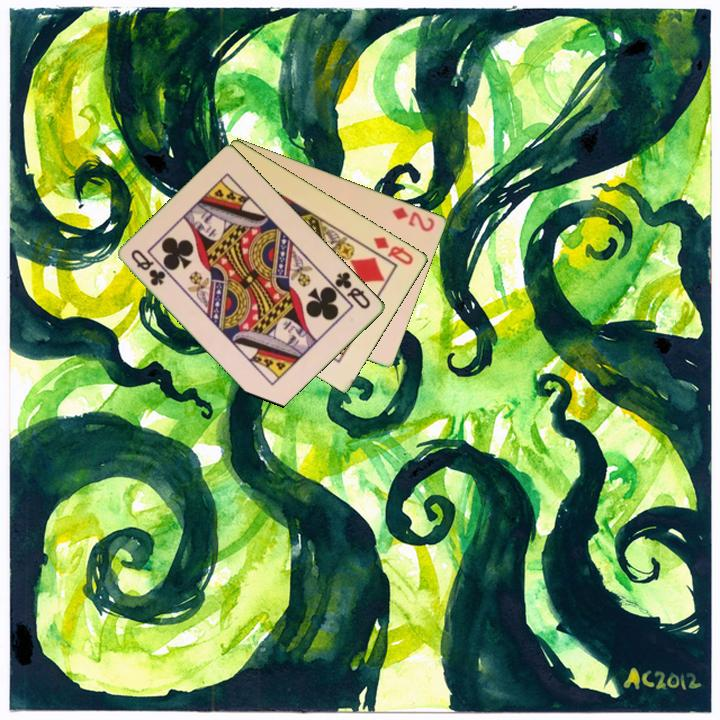2d: (389, 203, 438, 234)
Qc: (331, 268, 374, 312), (128, 246, 169, 289)
Qd: (370, 233, 417, 268)
